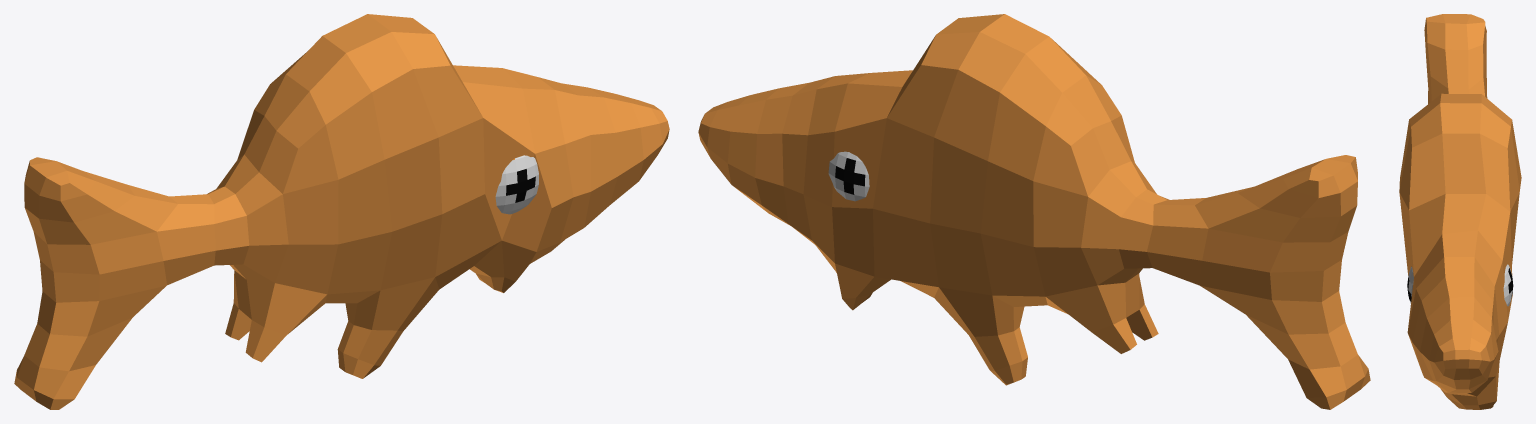
File: goldfish.fbx
3 renders of one model, left to right at view 1: azimuth 30°, elevation 25°; view 2: azimuth 150°, elevation 25°; view 3: azimuth 270°, elevation 25°, orthographic. The views are drawn at different scales.
Visible parts, largest first — view 1: Cube; view 2: Cube; view 3: Cube.
Part boxes in pixels (box(x1,y1,x2,y2)): Cube: box(14, 14, 669, 409); Cube: box(698, 14, 1370, 409); Cube: box(1399, 14, 1521, 409).
Size of the model in its own units: 573 by 300 by 111.
